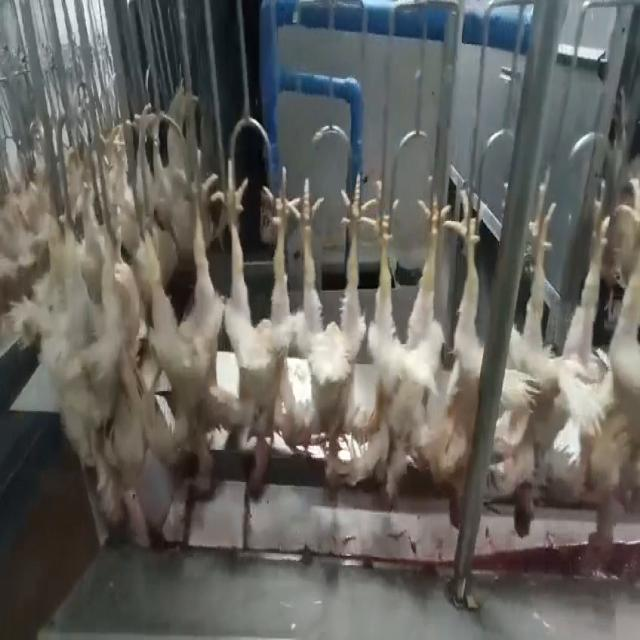chicken: (284, 181, 386, 510), (215, 167, 302, 507), (492, 177, 568, 542), (359, 187, 443, 512), (569, 192, 636, 567), (435, 188, 489, 533), (156, 180, 208, 484)
